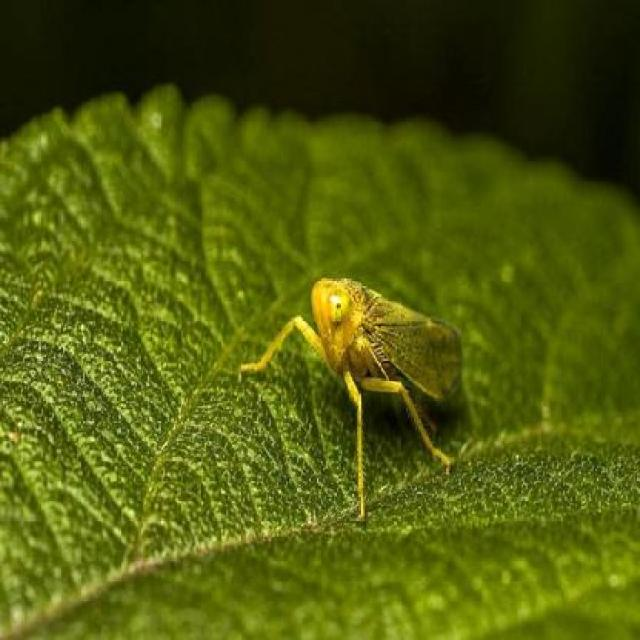green-leafhopper: (232, 272, 463, 520)
